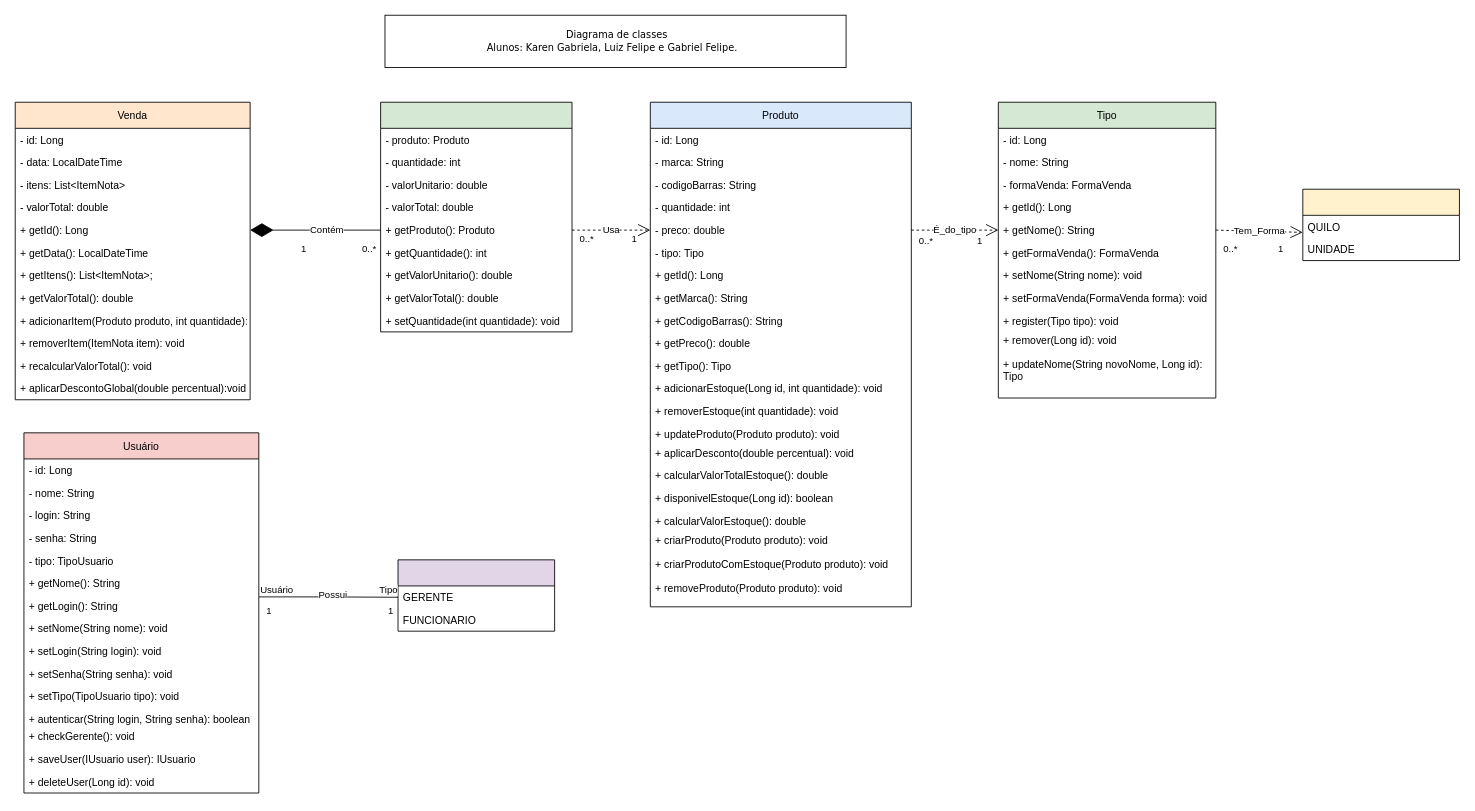
Some shapes in this 1475 by 811 pixel diagram are drawn without their labels. The shapes that lost their labels are listed below. From the top down, each one's box as (x1, y1, x2, y2) in pixels, then its label:
(380, 101, 572, 332): ItemNota
(1302, 188, 1459, 261): FormaVenda(enum)
(397, 559, 555, 631): TipoUsuário
